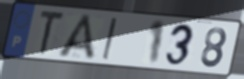1: (146, 19, 166, 66)
3: (163, 22, 200, 68)
8: (200, 26, 228, 69)
A: (55, 13, 97, 62)
I: (100, 16, 119, 62)
T: (38, 9, 67, 57)
